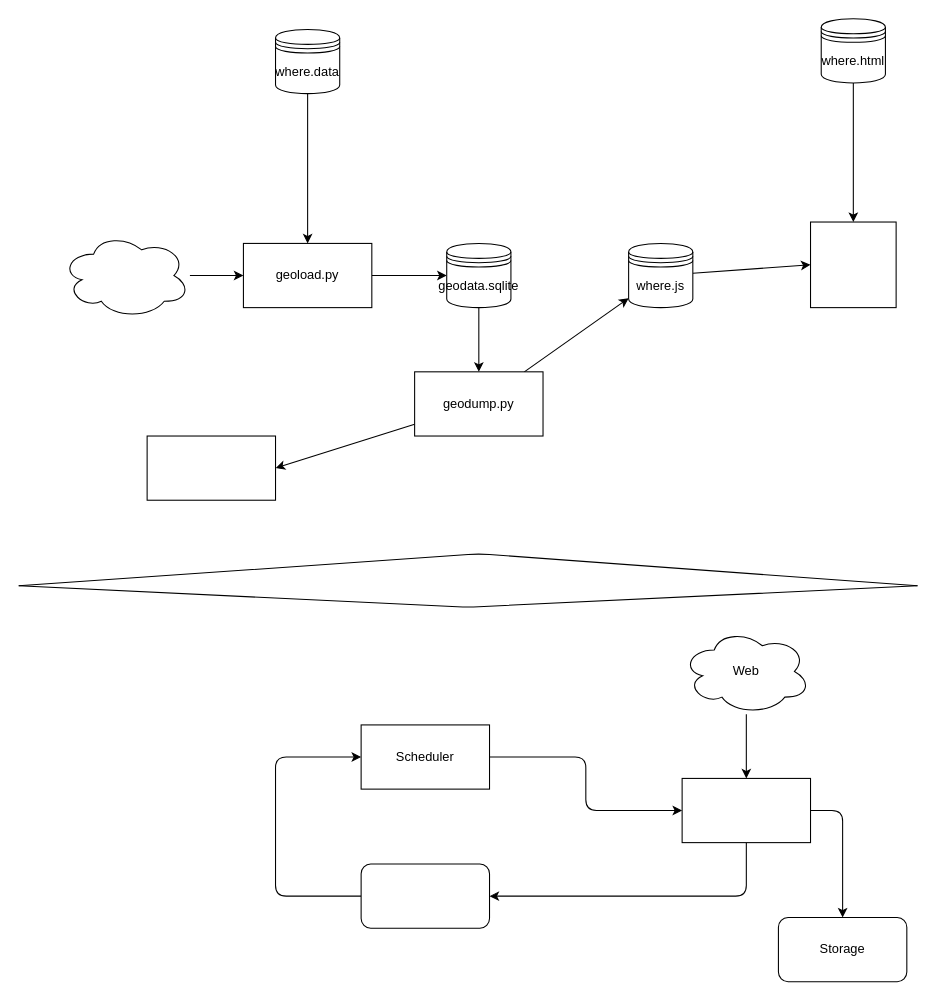
The diagram is 937 pixels wide and 1000 high, and some of its shapes have lost their labels. The centre of each missing label's shape, as x and y in pixels:
data from dump: [211,467]
Google geodata: [125,275]
MAP: [852,264]
multithreaded downloader: [746,810]
Queue: [425,895]
